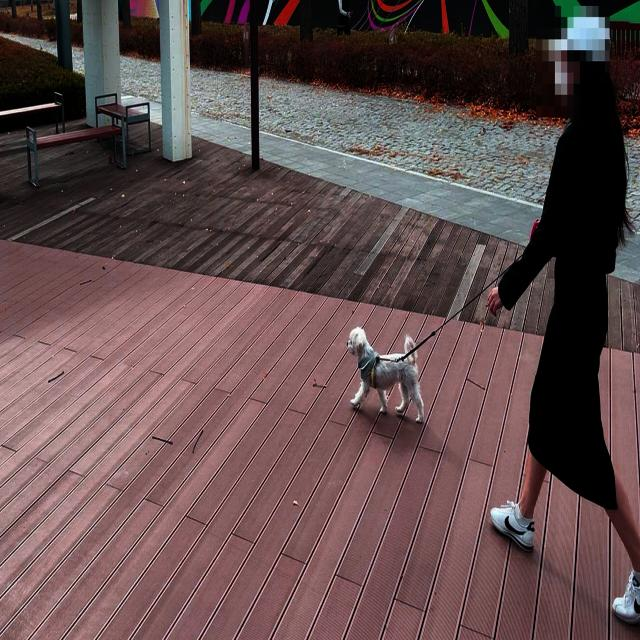Leashed_Dog: (346, 223, 564, 424)
